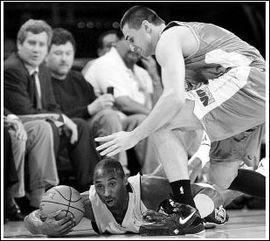Fall-Detected: (27, 154, 239, 233)
